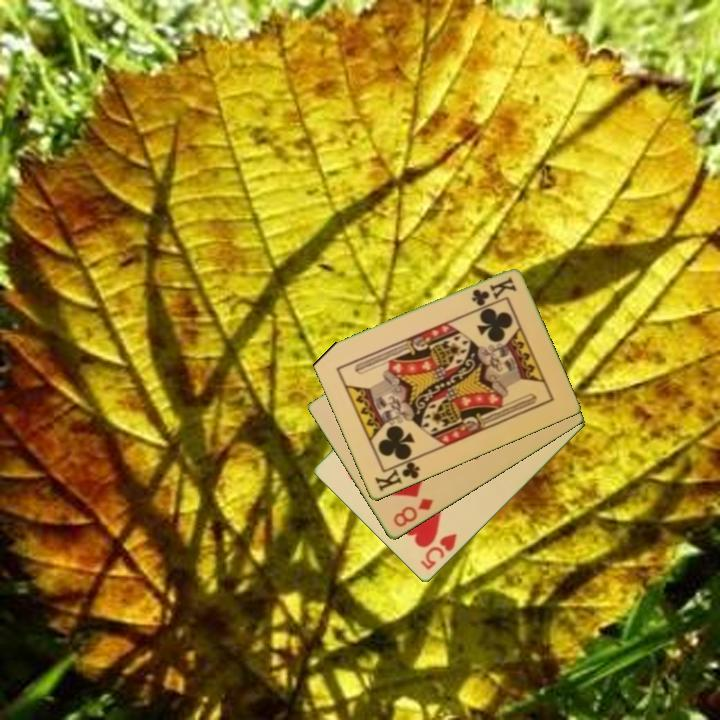5h: (417, 530, 460, 573)
8d: (390, 495, 436, 531)
Kc: (371, 455, 423, 495), (468, 274, 519, 309)
